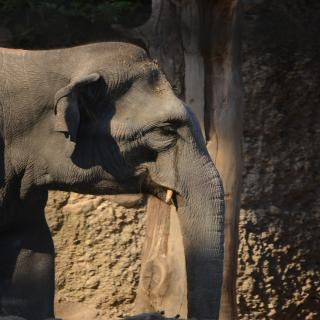Elephant: (0, 33, 237, 320)
